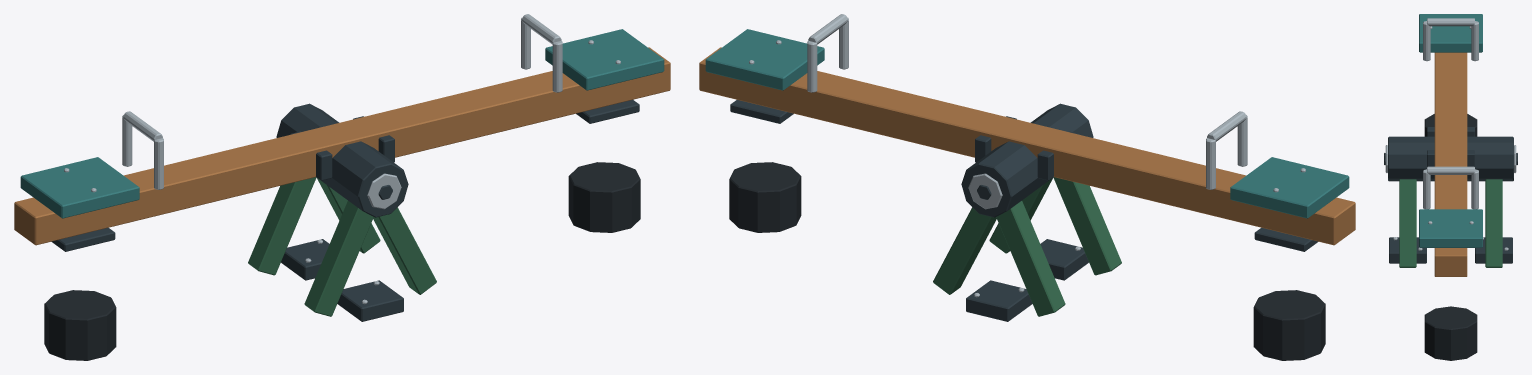
Rendered from b09_seesaw.glb.
3 views of the same model, side by side, from view 1: azimuth 30°, elevation 25°; view 2: azimuth 150°, elevation 25°; view 3: azimuth 270°, elevation 25° (orthographic). The views are drawn at different scales.
Parts seen in each view (by area): view 1: b09_seesaw; view 2: b09_seesaw; view 3: b09_seesaw.
Part boxes in pixels (box(x1,y1,x2,y2)): b09_seesaw: box(14, 14, 670, 360); b09_seesaw: box(699, 14, 1355, 360); b09_seesaw: box(1384, 14, 1517, 360).
Size of the model in its own units: 3.25 by 1.04 by 0.776.
